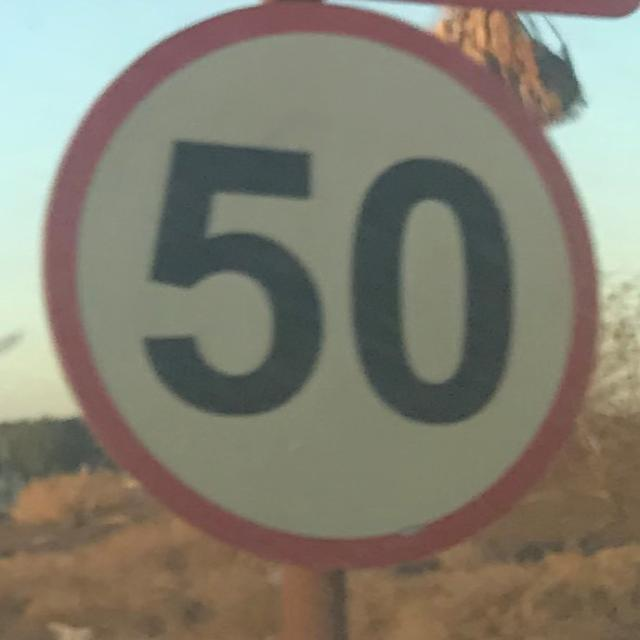Limite-50: (38, 0, 602, 577)
